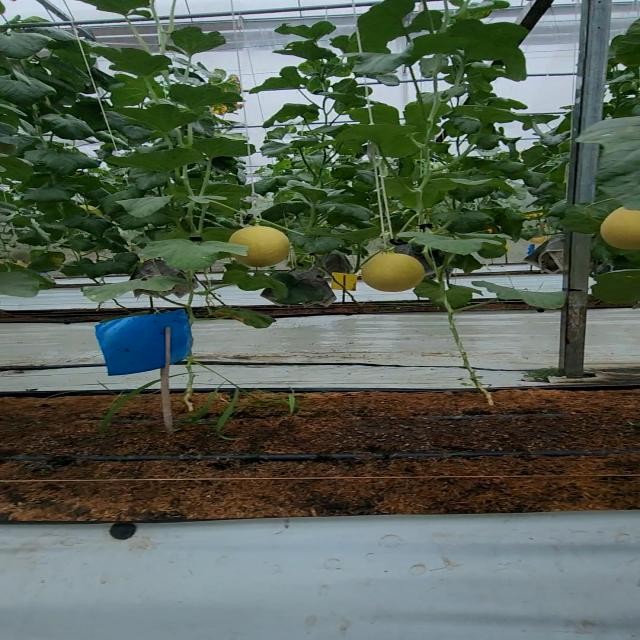Rear-melon: (364, 254, 427, 289), (241, 223, 292, 266), (598, 211, 640, 249)
